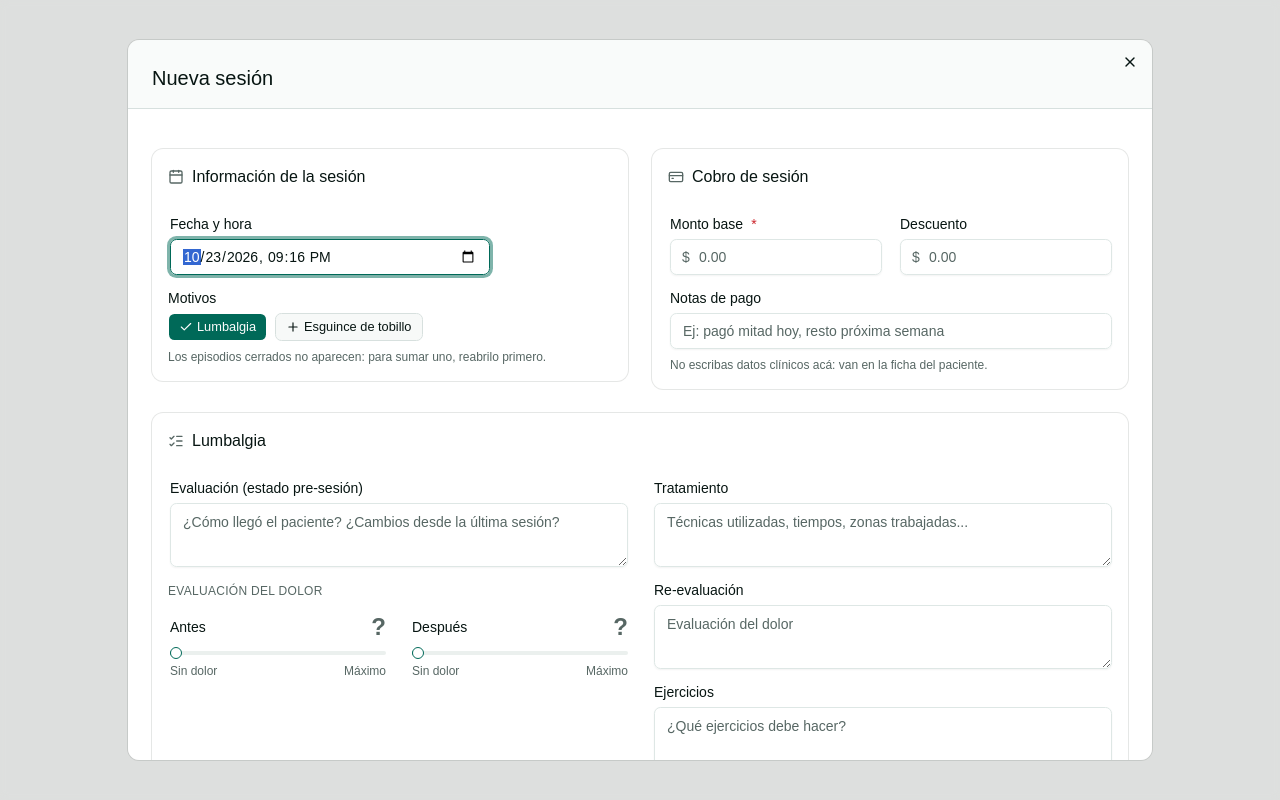
Test: SessionFormModalWide: several motives › refuses a session without a motive
The width and height of the screenshot is (1280, 800).
Click the button "Lumbalgia" at {"x": 218, "y": 327}, box [168,313,267,341]
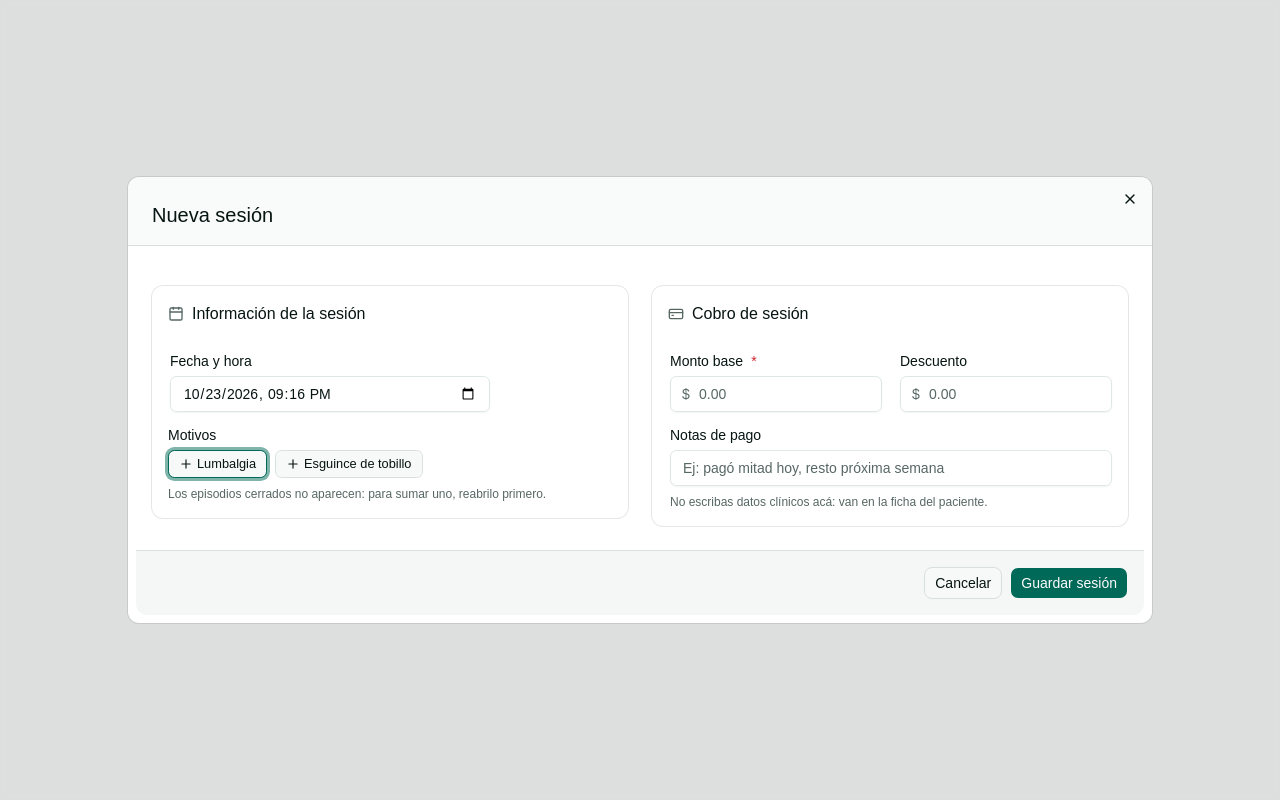
Type "100" into the number field with placeholder "0.00" below "Monto base" at {"x": 776, "y": 394}, box [670,376,882,412]
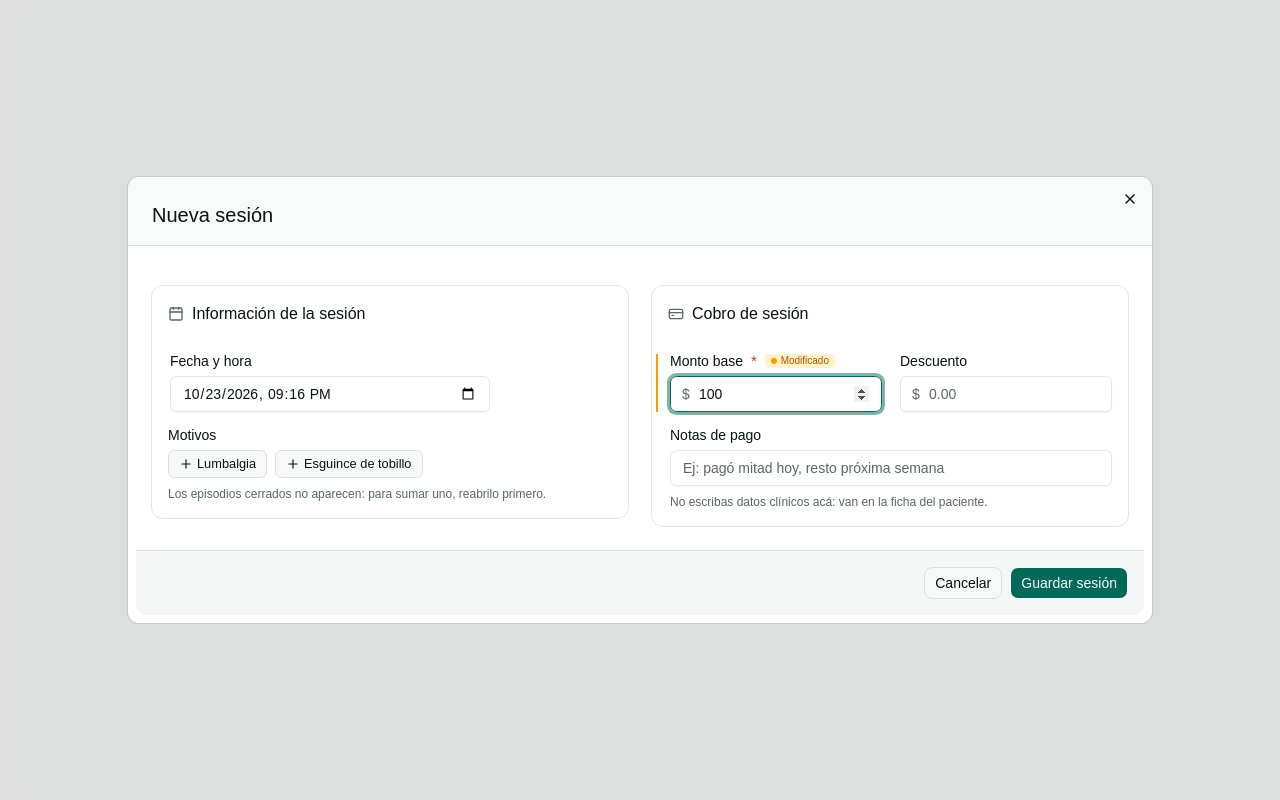
Click the button "Guardar sesión" at {"x": 1069, "y": 583}, box [1010,567,1128,599]
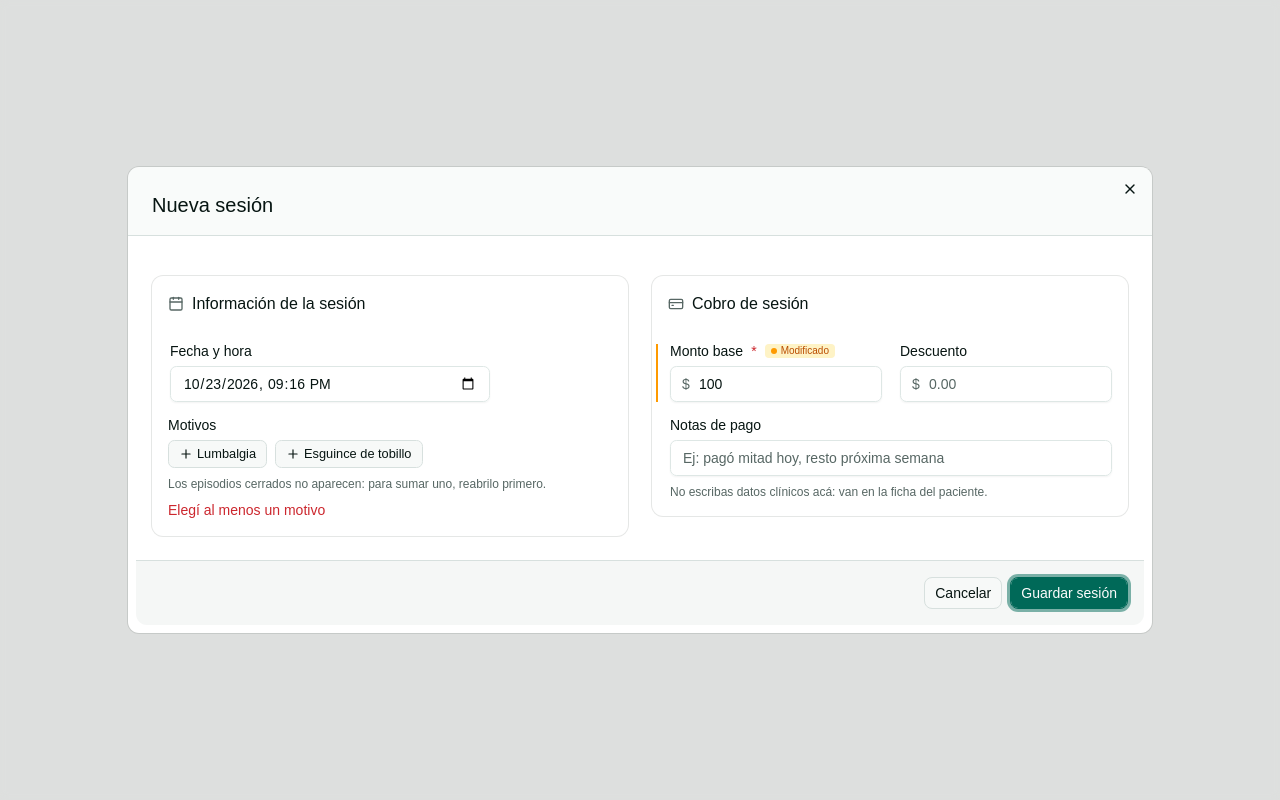
Check: the text "Elegí al menos un motivo" is shown, box [168,502,325,518]
